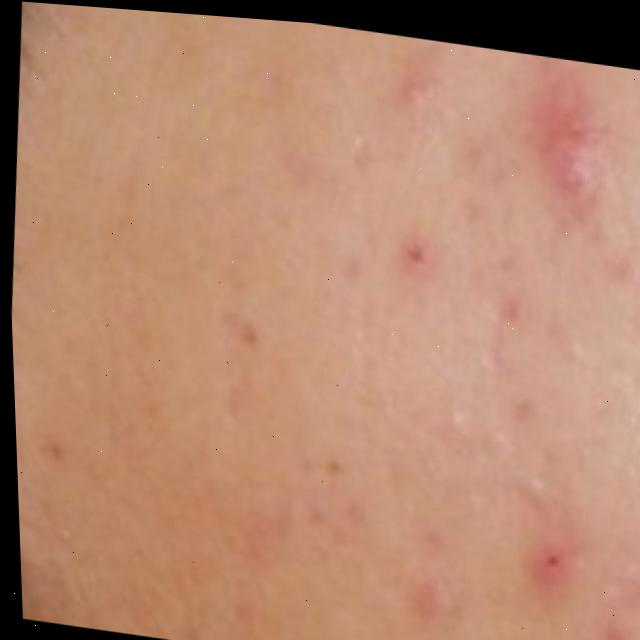Acne: (261, 124, 640, 626)
